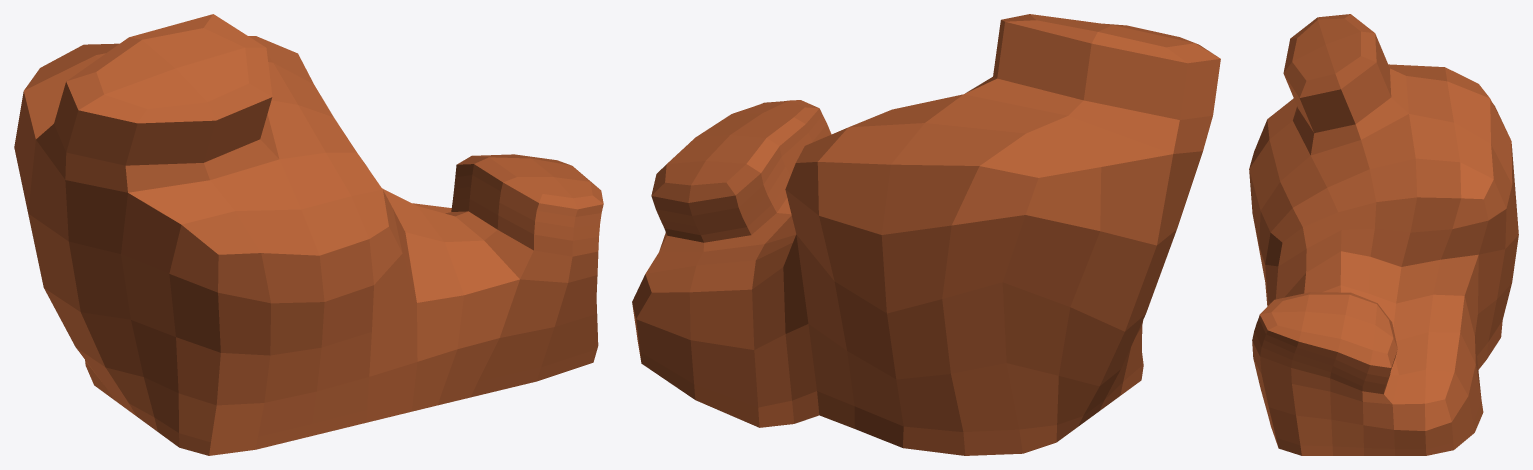
Rendered from BigRock1.fbx.
3 views of the same model, side by side, from view 1: azimuth 30°, elevation 25°; view 2: azimuth 150°, elevation 25°; view 3: azimuth 270°, elevation 25° (orthographic). The views are drawn at different scales.
Visible parts, largest first — view 1: BigRock1; view 2: BigRock1; view 3: BigRock1.
Part boxes in pixels (x1,y1,x2,y2): BigRock1: (14,14,603,455); BigRock1: (632,14,1220,455); BigRock1: (1249,14,1518,455).
Bounding box in the file's own units: 39.14 × 27.96 × 23.57.
